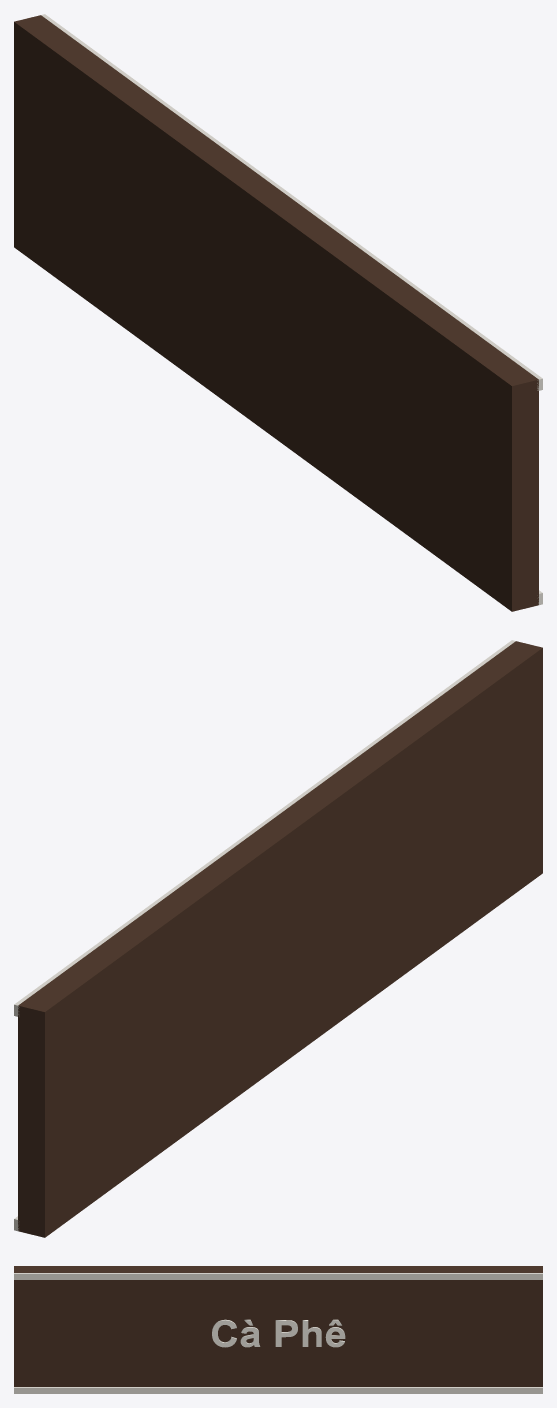
Rendered from OW_Mau_Bang_7_0_3.fbx.
3 renders of one model, top to bottom at view 1: azimuth 30°, elevation 25°; view 2: azimuth 150°, elevation 25°; view 3: azimuth 270°, elevation 25°, orthographic. The views are drawn at different scales.
Parts seen in each view (by area): view 1: OW_Bang_Cà Phê.004; view 2: OW_Bang_Cà Phê.004; view 3: OW_Bang_Cà Phê.004, Chữ • Cà Phê.004_Mesh.
Part boxes in pixels (x1=…): OW_Bang_Cà Phê.004: x1=14, y1=14, x2=542, y2=611; OW_Bang_Cà Phê.004: x1=14, y1=640, x2=542, y2=1237; OW_Bang_Cà Phê.004: x1=14, y1=1266, x2=542, y2=1393; Chữ • Cà Phê.004_Mesh: x1=212, y1=1319, x2=345, y2=1347.
Size of the model in its own units: 0.24 by 1.6 by 6.4.
